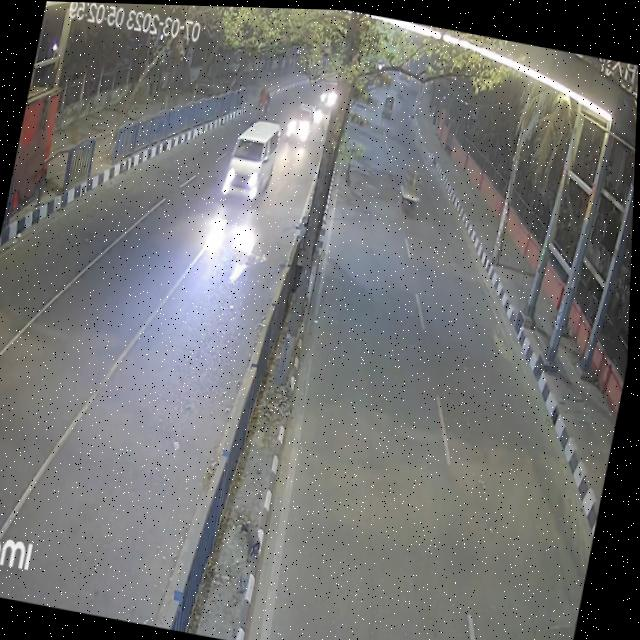cng: (379, 91, 395, 119)
